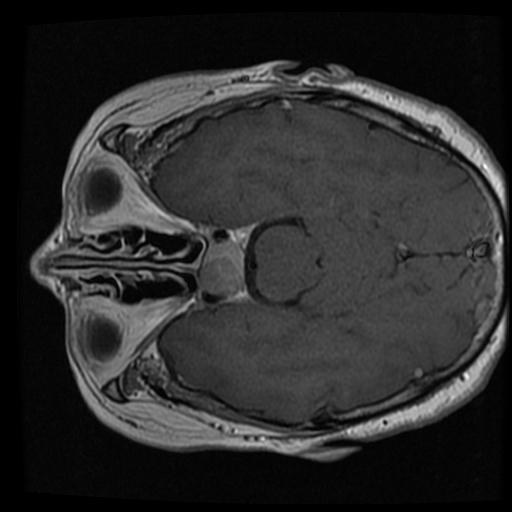pituitary tumour: (193, 237, 246, 303)
